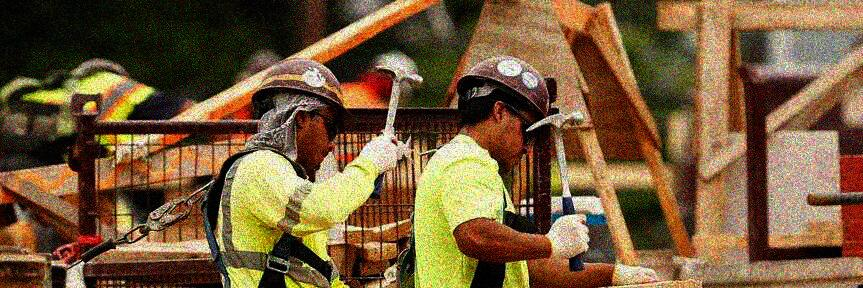helmet: (251, 58, 350, 172), (456, 54, 552, 163)
